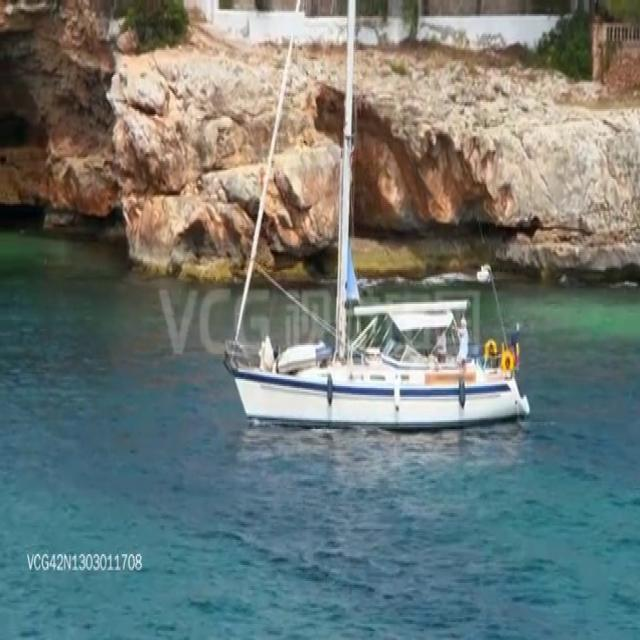sailboat: (223, 0, 531, 440)
